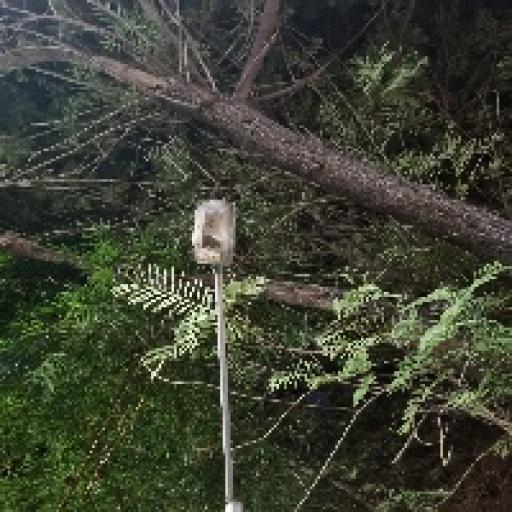Not Working: (176, 182, 254, 288)
